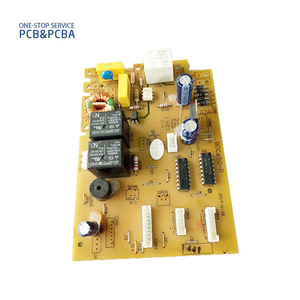capacitor: (177, 74, 193, 105), (181, 119, 198, 144), (78, 220, 99, 237)
resistor: (133, 156, 140, 171), (135, 89, 140, 102), (130, 71, 135, 84), (158, 103, 170, 108), (130, 105, 141, 110), (139, 77, 144, 86)
